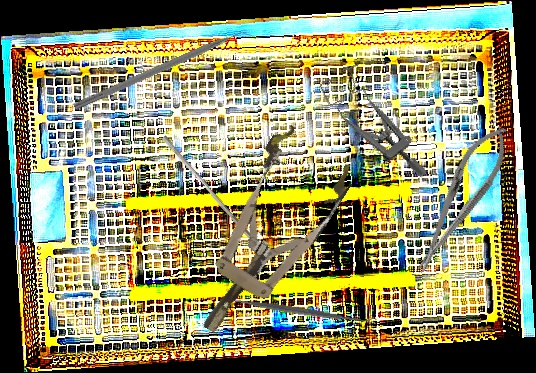Chopper: (71, 23, 261, 121)
Needle Holder: (402, 117, 520, 280)
Pusher: (157, 134, 269, 253)
Spatula Surgical: (215, 289, 375, 332)
Speculum: (167, 119, 362, 354), (316, 54, 430, 201)
